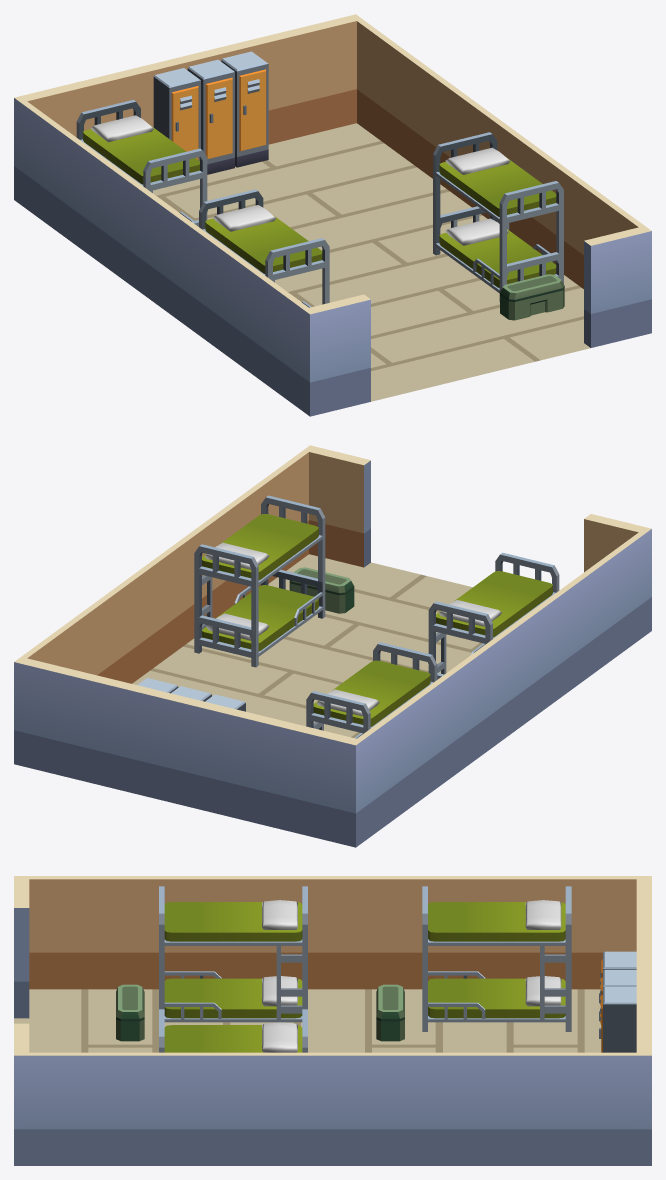
Rendered from Barrack_Lv2_b.fbx.
3 views of the same model, one above another, from view 1: azimuth 30°, elevation 25°; view 2: azimuth 150°, elevation 25°; view 3: azimuth 270°, elevation 25° (orthographic). The views are drawn at different scales.
Parts seen in each view (by area): view 1: unit125, wall_half11, wall_half10, wall40, Bed3, wall41, wall42, Bed2, Bed1, locket, locket3, locket4 (+1 smaller); view 2: wall40, wall_half11, unit125, wall_half10, Bed3, Bed2, Bed1, wall41, wall42, big_chest4; view 3: wall_half10, wall_half11, unit125, Bed1, Bed2, wall40, Bed3, locket, wall42, wall41, big_chest1, big_chest3 (+2 smaller).
Boxes of the visible parts, bbox=[...] form: unit125: bbox=[153, 123, 590, 401]; wall_half11: bbox=[14, 96, 310, 412]; wall_half10: bbox=[351, 14, 646, 288]; wall40: bbox=[14, 14, 362, 203]; Bed3: bbox=[433, 132, 563, 301]; wall41: bbox=[584, 227, 651, 347]; wall42: bbox=[303, 294, 370, 416]; Bed2: bbox=[199, 189, 329, 307]; Bed1: bbox=[76, 99, 207, 226]; locket: bbox=[221, 51, 268, 167]; locket3: bbox=[187, 59, 234, 174]; locket4: bbox=[153, 68, 200, 160]; wall40: bbox=[14, 657, 362, 845]; wall_half11: bbox=[349, 530, 647, 847]; unit125: bbox=[132, 554, 482, 737]; wall_half10: bbox=[16, 448, 311, 683]; Bed3: bbox=[194, 495, 325, 667]; Bed2: bbox=[428, 552, 559, 679]; Bed1: bbox=[306, 642, 437, 738]; wall41: bbox=[306, 445, 370, 567]; wall42: bbox=[584, 514, 651, 633]; big_chest4: bbox=[289, 567, 354, 613]; wall_half10: bbox=[23, 1052, 651, 1165]; wall_half11: bbox=[23, 876, 651, 989]; unit125: bbox=[14, 989, 601, 1052]; Bed1: bbox=[422, 886, 571, 1031]; Bed2: bbox=[159, 886, 307, 1022]; wall40: bbox=[636, 876, 651, 1165]; Bed3: bbox=[159, 1009, 307, 1052]; locket: bbox=[599, 987, 636, 1052]; wall42: bbox=[14, 876, 29, 1018]; wall41: bbox=[14, 1023, 29, 1165]; big_chest1: bbox=[116, 984, 144, 1041]; big_chest3: bbox=[376, 984, 404, 1041].
Size of the model in its own units: 700 by 212 by 1050.
